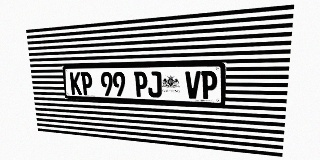9: (112, 72, 126, 96), (100, 72, 113, 96)
J: (147, 71, 162, 98)
K: (70, 72, 82, 95)
P: (201, 71, 217, 99), (134, 71, 148, 97), (80, 72, 93, 95)
V: (185, 71, 201, 99)
